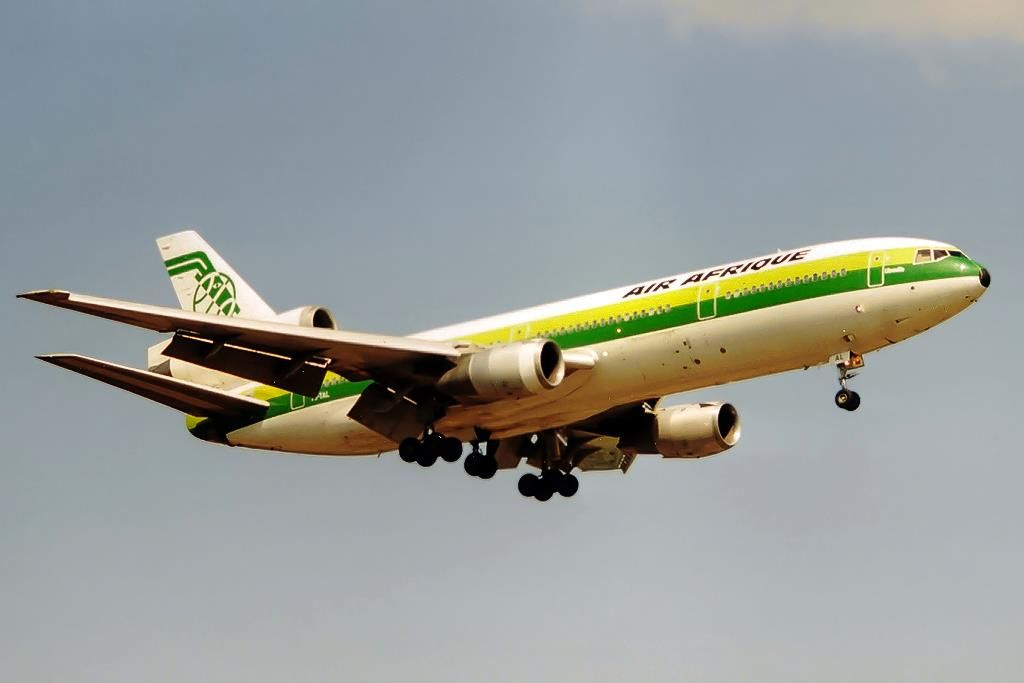Aeronef_commercial: (4, 220, 1006, 507)
